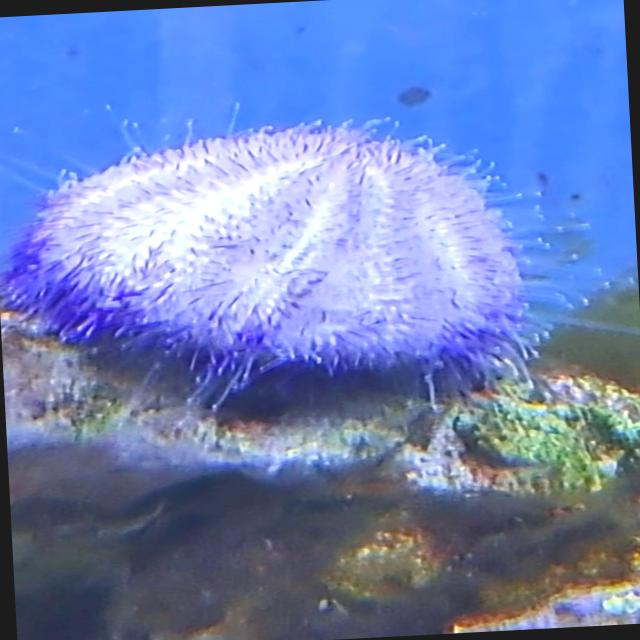Deniz Kestanesi: (0, 95, 583, 404)
